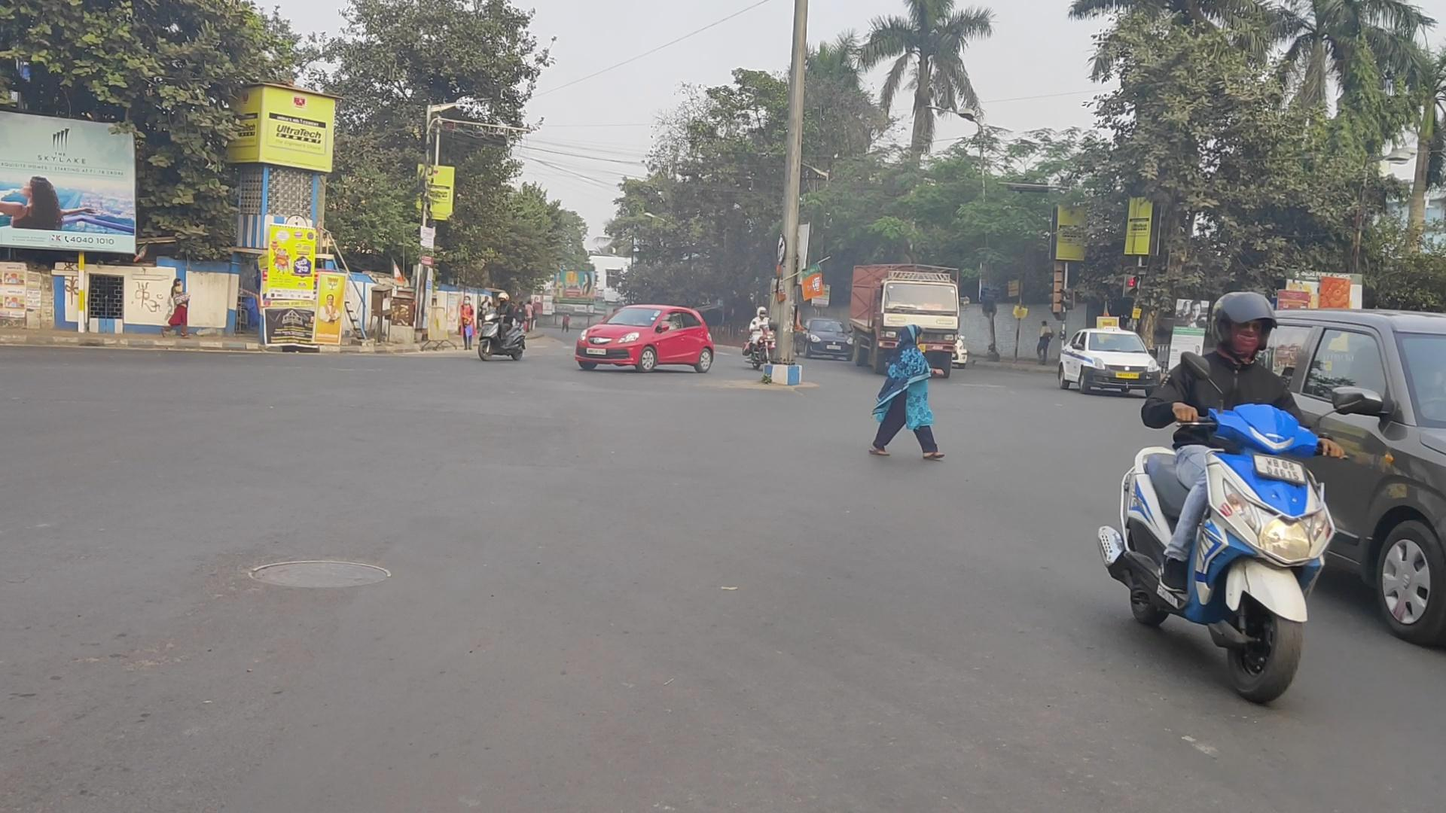bike: (1098, 292, 1366, 704), (478, 291, 527, 361), (742, 306, 781, 370)
car: (1225, 307, 1446, 644), (575, 303, 715, 374), (1058, 326, 1162, 397), (795, 317, 856, 363)
truck: (850, 263, 962, 380)
